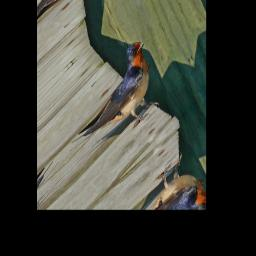Swallow: (68, 34, 170, 169)
